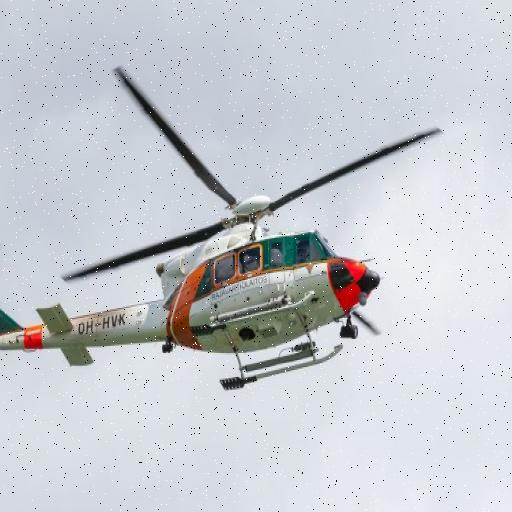helicopter: (1, 54, 448, 392)
